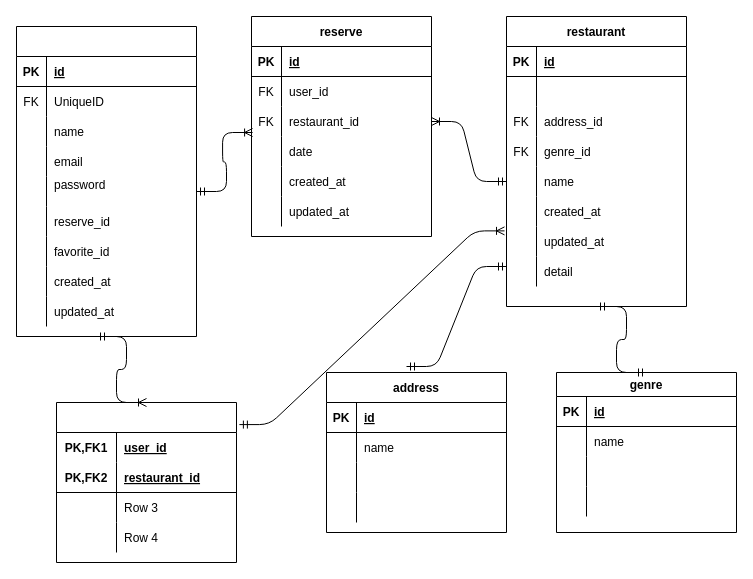
This 753x579 diagram has some shape labels left out. Here are the shapes that lost their labels. From the top down, the box of each, then its label:
(16, 26, 196, 336): user
(56, 402, 236, 562): favorite
